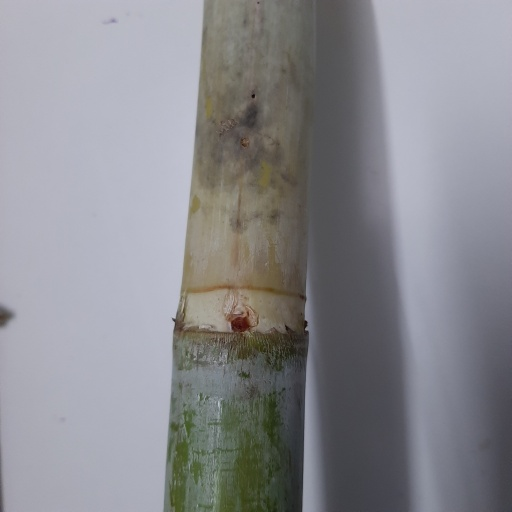Damage_Bud: (229, 311, 256, 335)
